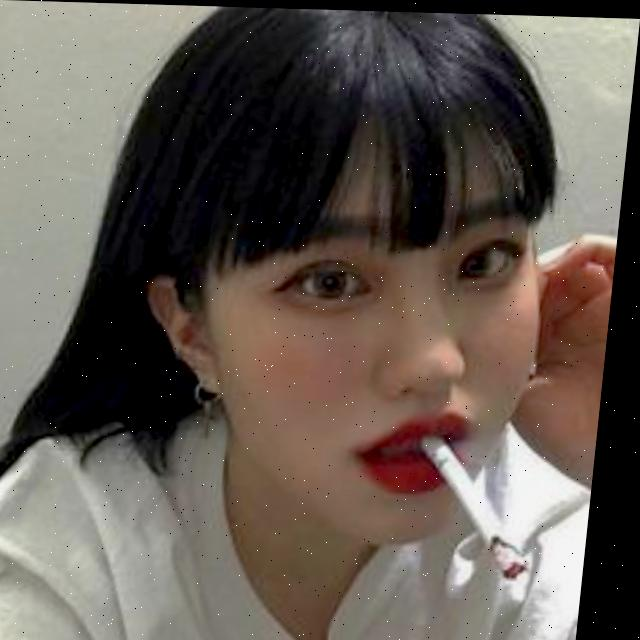cigarette: (420, 426, 554, 578)
